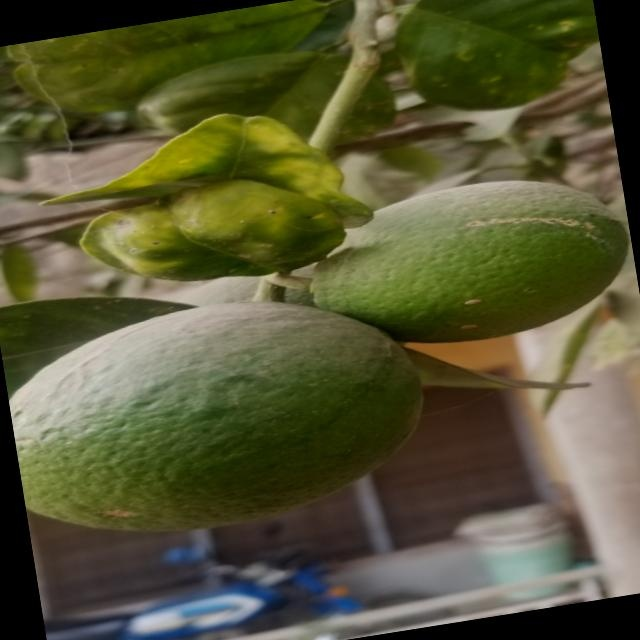agrume: (1, 265, 457, 563), (323, 151, 637, 369)
